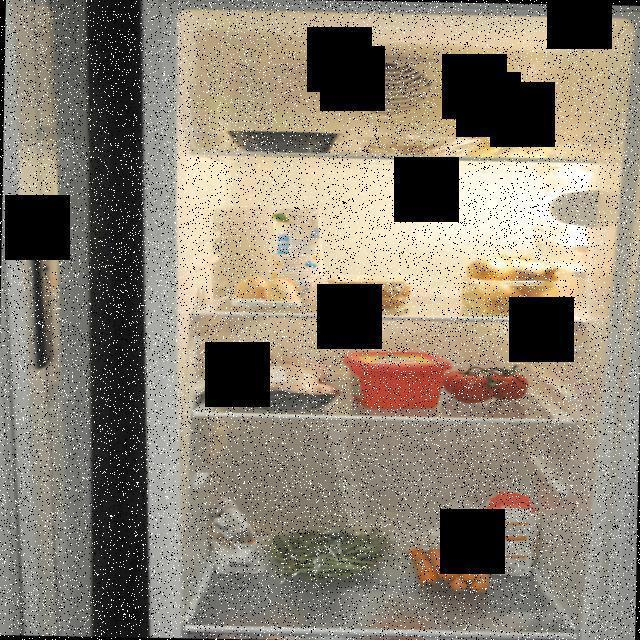bread: (320, 272, 416, 314)
butter: (339, 348, 448, 410)
carrot: (410, 532, 490, 596)
chicken: (216, 348, 336, 413)
egg: (234, 273, 302, 306)
flour: (202, 502, 264, 579)
green_beans: (266, 525, 400, 586)
milk: (271, 206, 324, 303)
onion: (460, 250, 564, 316)
potato: (462, 123, 555, 159)
shrimp: (362, 136, 462, 158)
sugar: (481, 489, 544, 579)
tomato: (442, 362, 533, 404)
